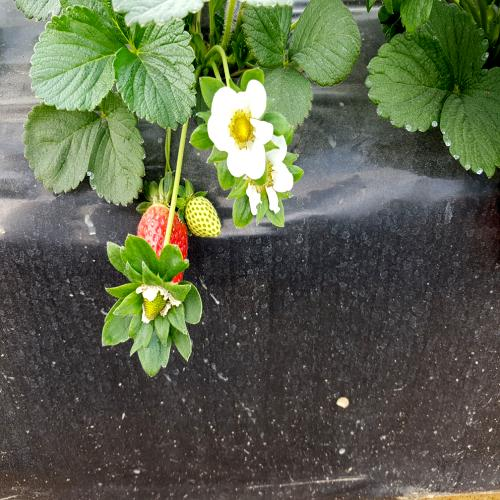ripe: (134, 190, 190, 305)
